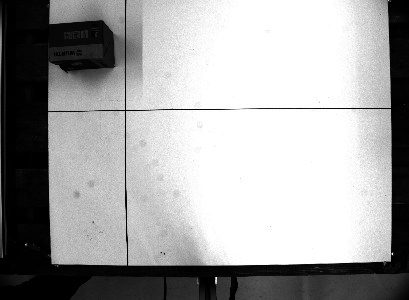b4: (46, 19, 117, 74)
